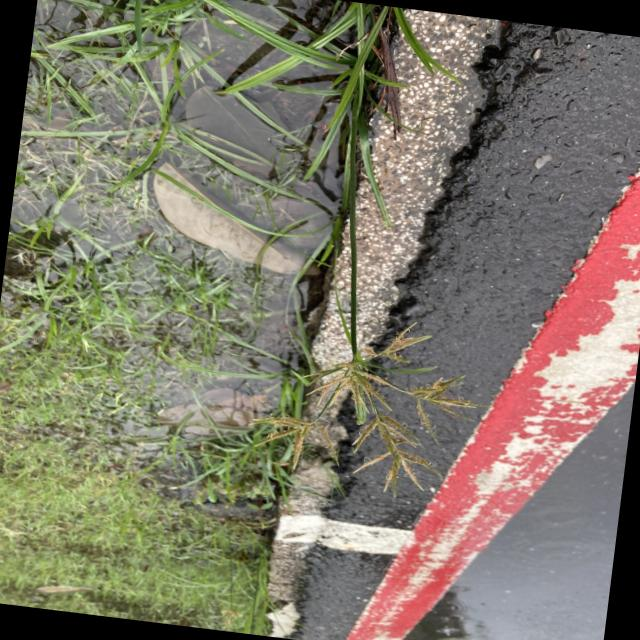cyperus: (233, 289, 496, 515)
